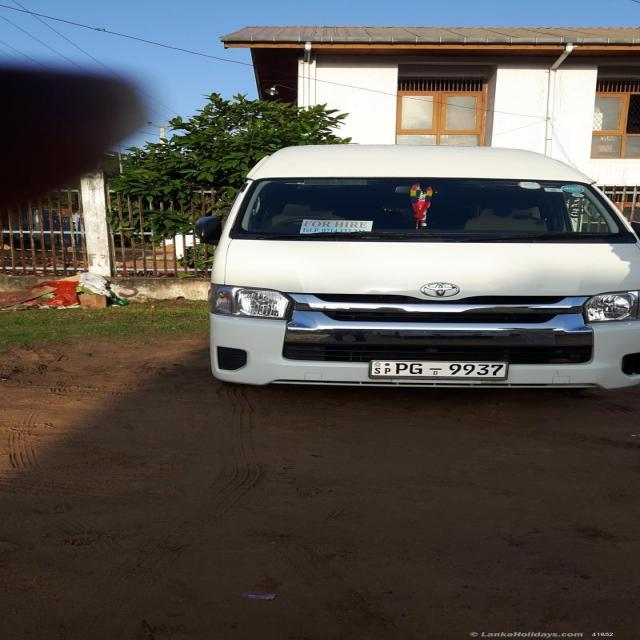license-plate: (372, 360, 508, 383)
